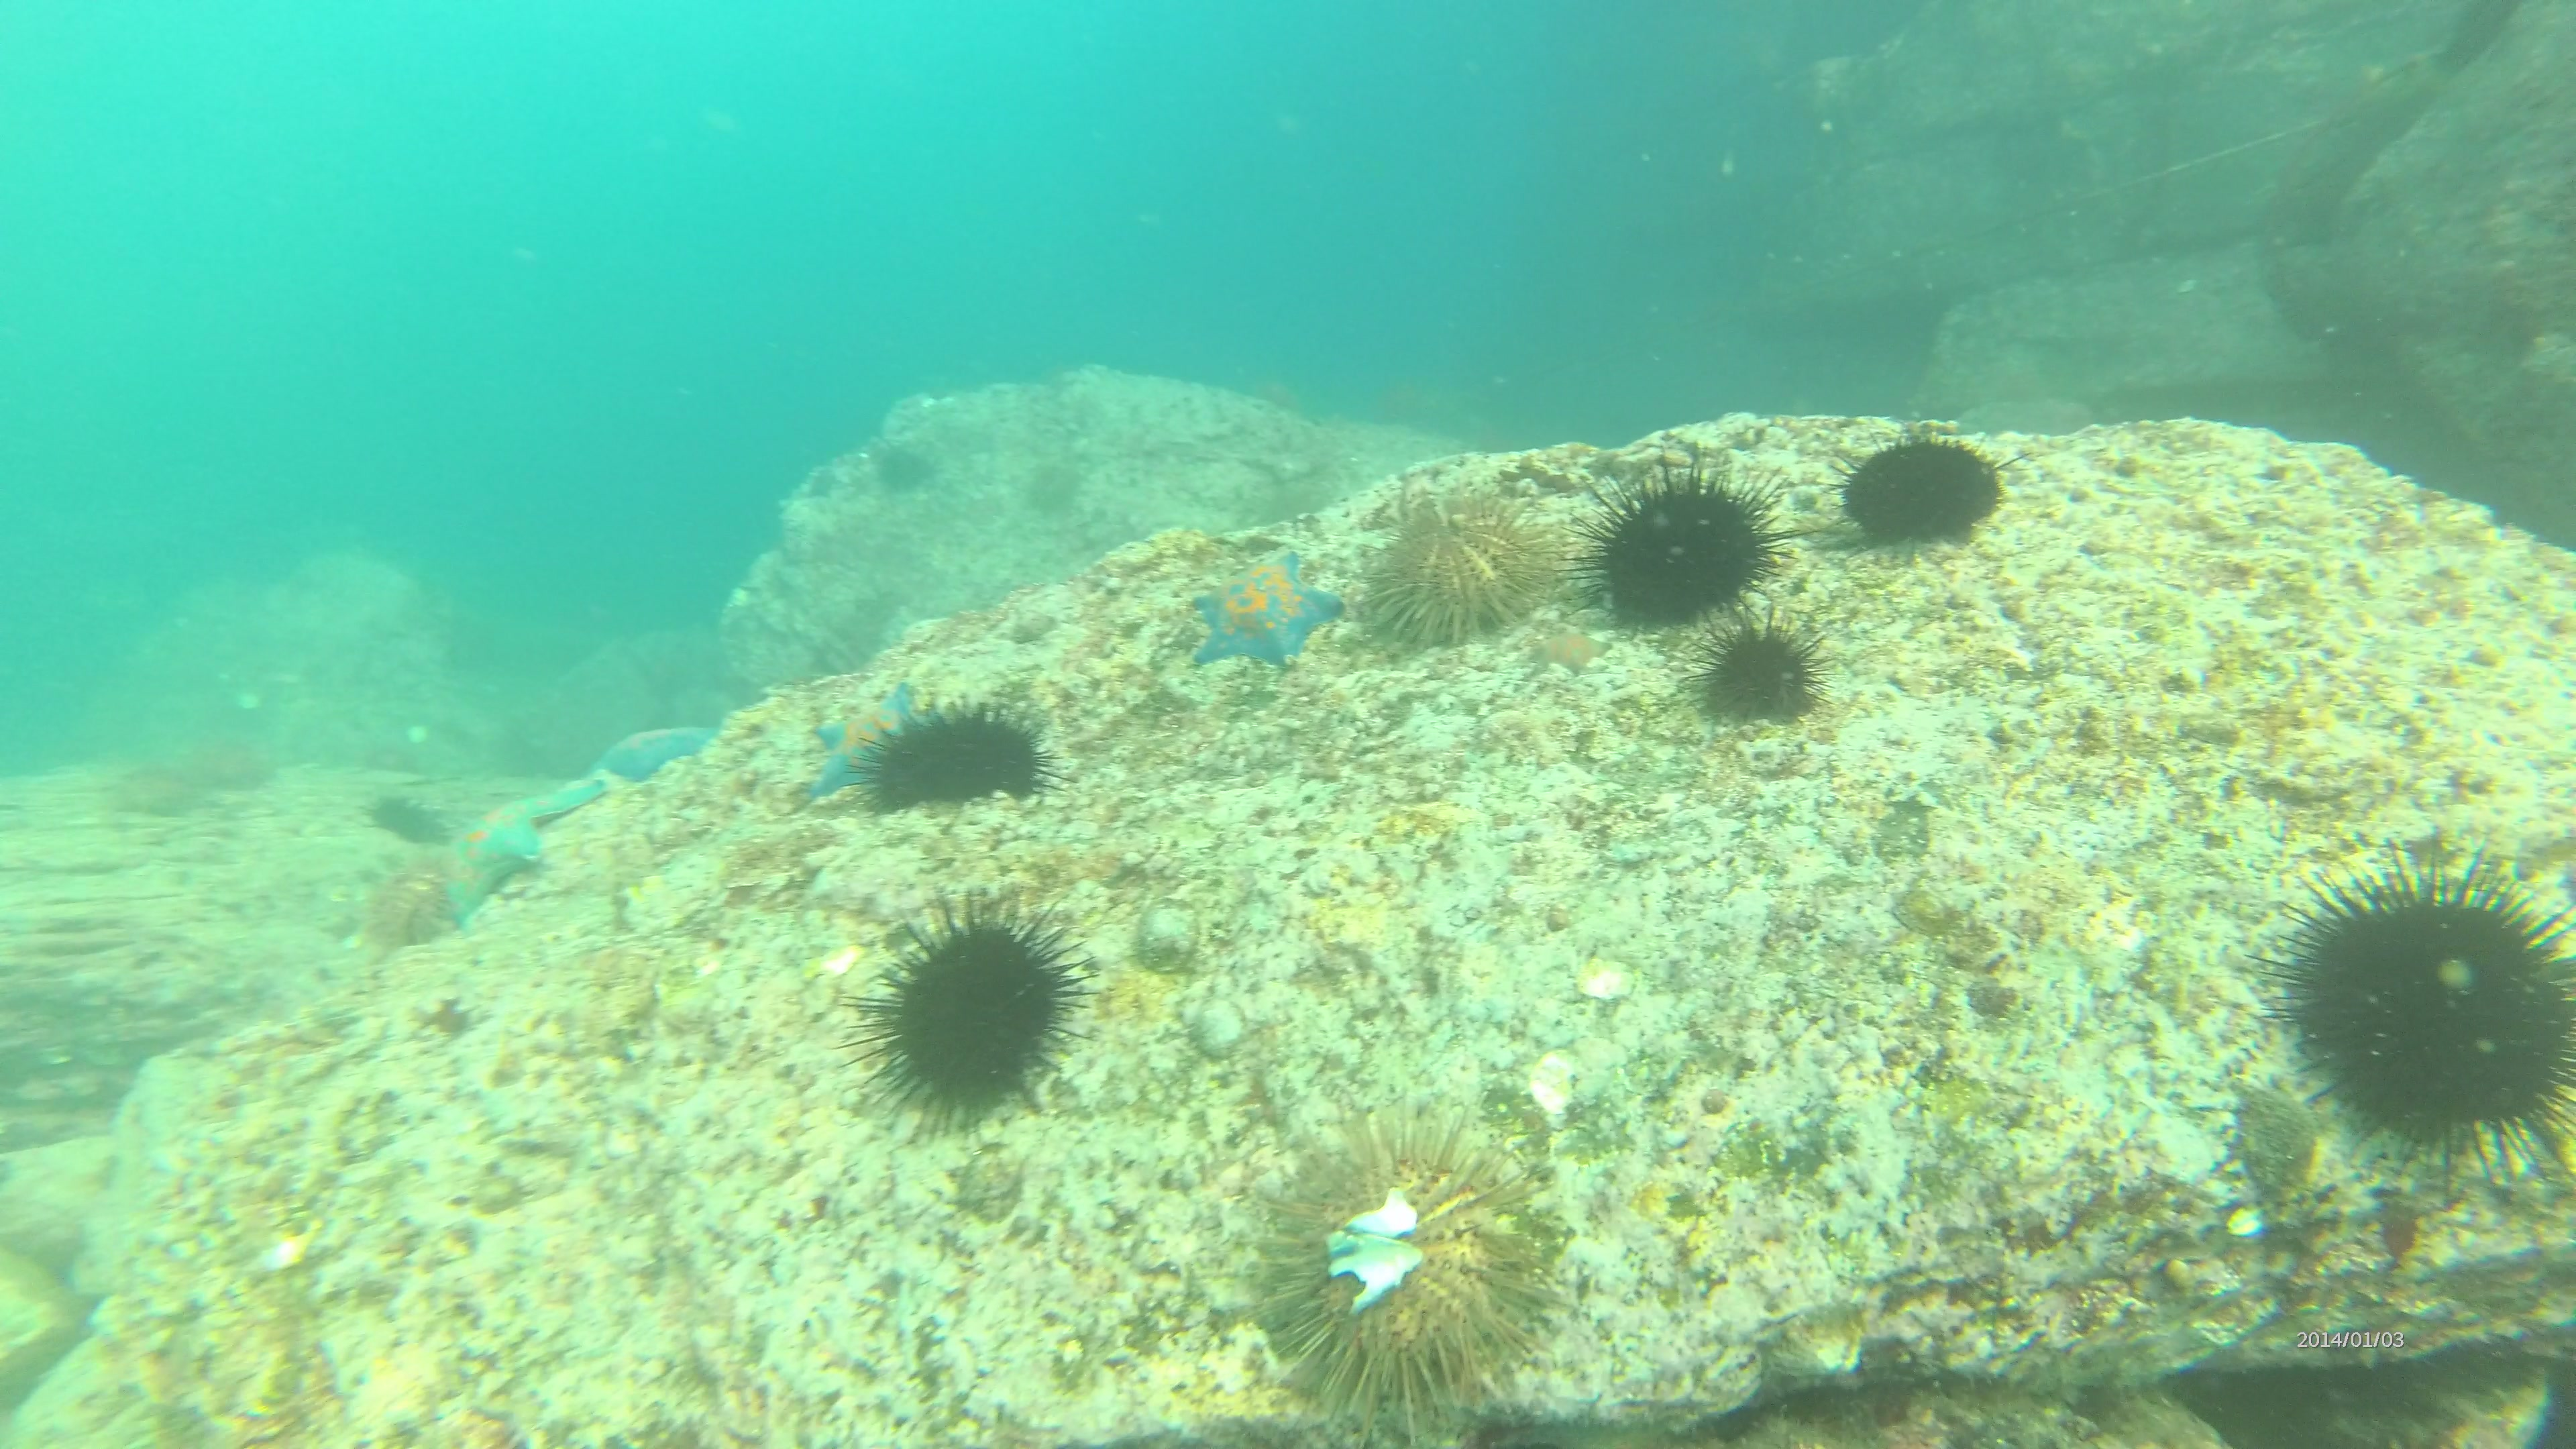echinus: (2268, 828, 2576, 1198), (1244, 1123, 1569, 1449), (847, 883, 1077, 1136), (1568, 446, 1798, 628), (1361, 474, 1566, 648), (858, 702, 1060, 810), (1835, 419, 1997, 541), (1691, 598, 1821, 740)
starfish: (439, 773, 612, 931), (1200, 543, 1348, 679), (817, 688, 943, 803), (589, 713, 724, 773)
